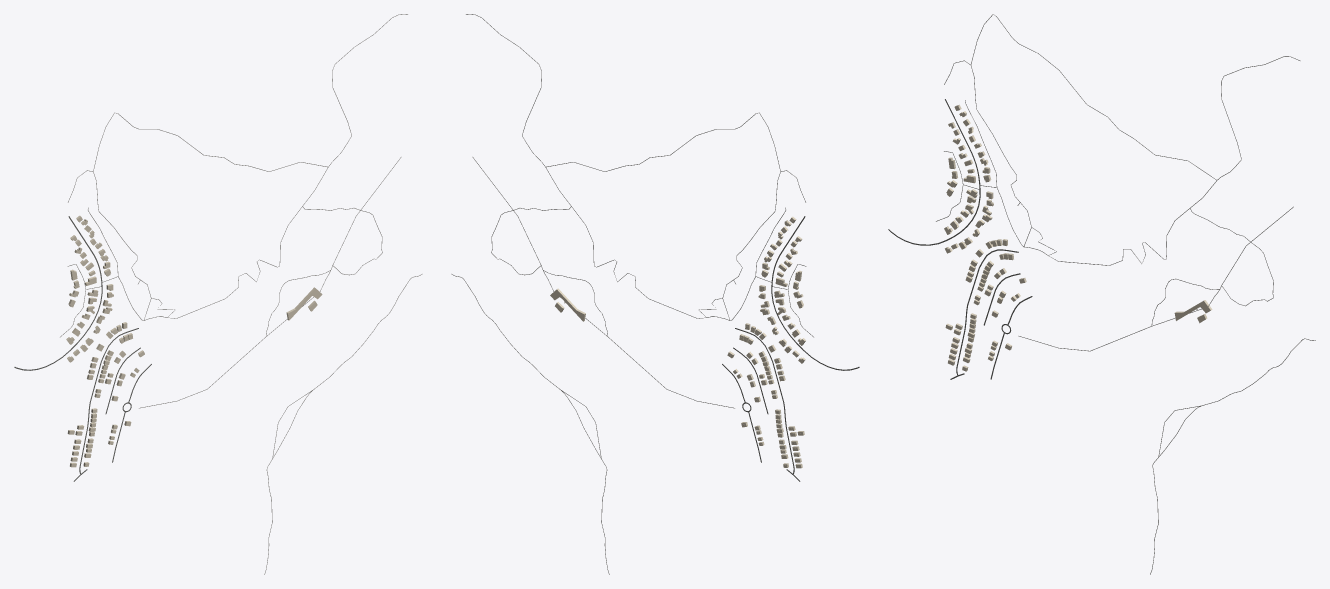
The model's file is historic-palestine-10_33_3523_3270.glb.
3 renders of one model, left to right at view 1: azimuth 30°, elevation 25°; view 2: azimuth 150°, elevation 25°; view 3: azimuth 330°, elevation 25°, orthographic. The views are drawn at different scales.
Size of the model in its own units: 1221 by 1507 by 8.7.
